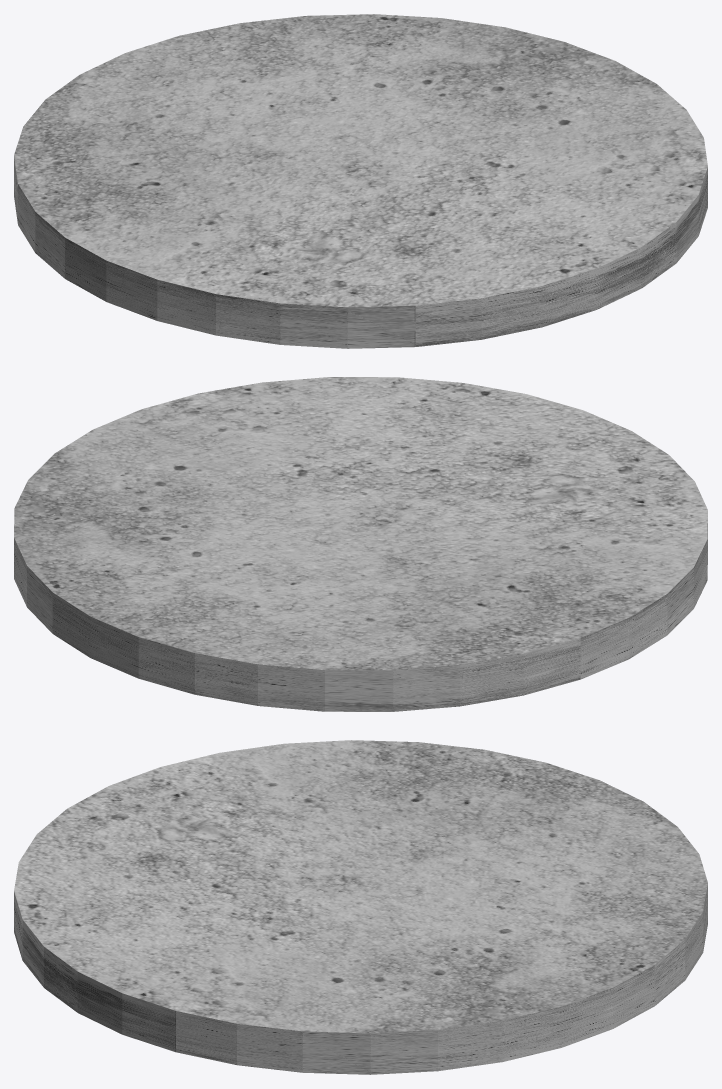
File: Бетон.fbx
3 views of the same model, one above another, from view 1: azimuth 30°, elevation 25°; view 2: azimuth 150°, elevation 25°; view 3: azimuth 270°, elevation 25° (orthographic).
Parts seen in each view (by area): view 1: Цилиндр.046; view 2: Цилиндр.046; view 3: Цилиндр.046.
Boxes of the visible parts, x1=… form: Цилиндр.046: x1=14, y1=14, x2=707, y2=348; Цилиндр.046: x1=14, y1=377, x2=707, y2=711; Цилиндр.046: x1=14, y1=740, x2=707, y2=1074.
Size of the model in its own units: 137 by 9 by 137.
Materials: 1 (1 with a texture image).
